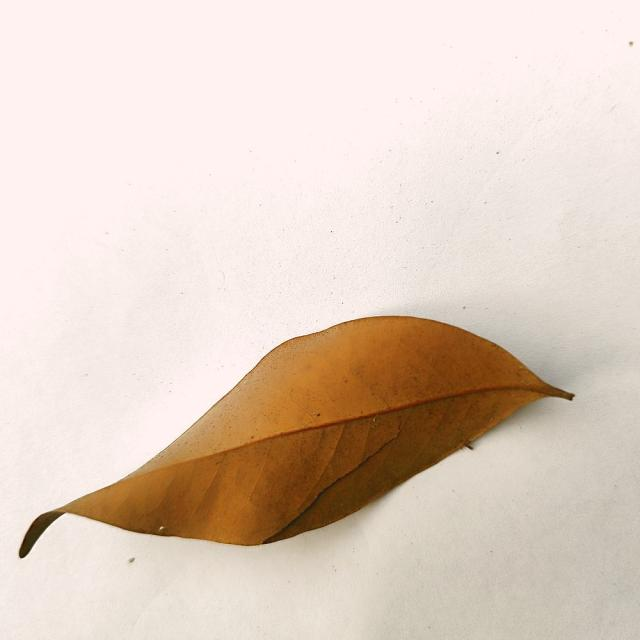Dry_Leaf-Lychee: (18, 317, 574, 559)
